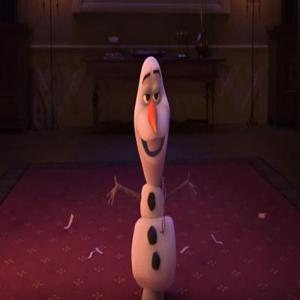olaf: (115, 49, 202, 296)
